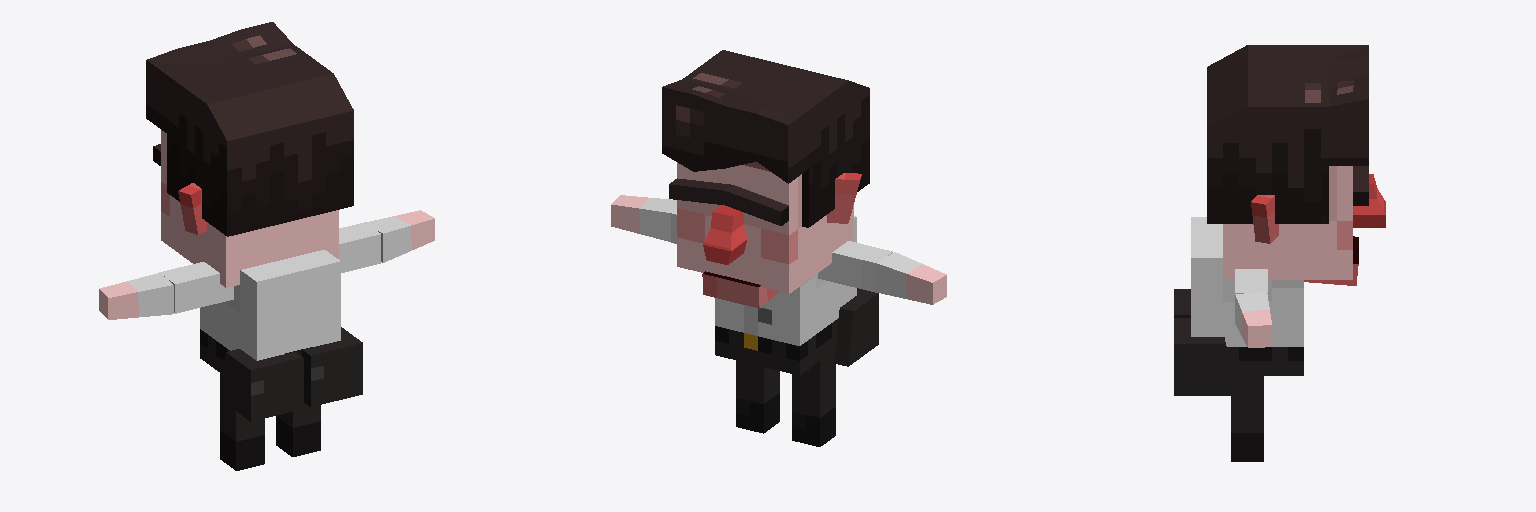
The picture shows the model from 3 angles: view 1: azimuth 30°, elevation 25°; view 2: azimuth 150°, elevation 25°; view 3: azimuth 270°, elevation 25°; orthographic projection.
Visible parts, largest first — view 1: hair, torso, head, cheek_left, cheek_right, forearm_left, leg_left, arm_left, forearm_right, leg_right, arm_right, ear_left; view 2: hair, head, torso, leg_left, leg_right, brow, forearm_left, cheek_left, forearm_right, arm_left, nose, mouth (+1 smaller); view 3: hair, torso, head, cheek_right, leg_right, forearm_right, ear_right, nose, arm_right, brow.
Boxes of the visible parts, box(x1,y1,x2,y2) form: hair: box(146, 22, 353, 236); torso: box(200, 250, 340, 374); head: box(161, 130, 338, 287); cheek_left: box(220, 349, 303, 421); cheek_right: box(302, 327, 362, 406); forearm_left: box(99, 273, 173, 319); leg_left: box(220, 373, 264, 470); arm_left: box(159, 262, 233, 313); forearm_right: box(366, 210, 434, 262); leg_right: box(276, 403, 320, 456); arm_right: box(339, 222, 380, 272); ear_left: box(178, 183, 206, 234); hair: box(662, 50, 869, 227); head: box(677, 162, 853, 293); torso: box(715, 216, 856, 375); leg_left: box(792, 350, 835, 446); leg_right: box(736, 360, 779, 433); brow: box(669, 178, 788, 225); forearm_left: box(877, 252, 946, 304); cheek_left: box(834, 288, 878, 366); forearm_right: box(611, 195, 676, 241); arm_left: box(818, 241, 892, 292); nose: box(703, 205, 746, 264); mouth: box(702, 271, 778, 308); hair: box(1207, 45, 1368, 223); torso: box(1191, 217, 1303, 375); head: box(1223, 166, 1352, 279); cheek_right: box(1174, 318, 1234, 395); leg_right: box(1231, 375, 1263, 461); forearm_right: box(1235, 292, 1271, 347); ear_right: box(1251, 195, 1278, 243); nose: box(1353, 174, 1385, 227); arm_right: box(1235, 269, 1267, 293); brow: box(1353, 166, 1368, 205).
Size of the model in its own units: 1.45 by 1.59 by 0.8125.
1 materials, 1 textured.